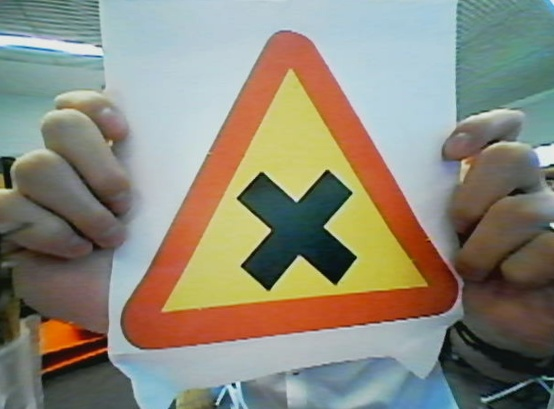junction: (144, 29, 457, 382)
